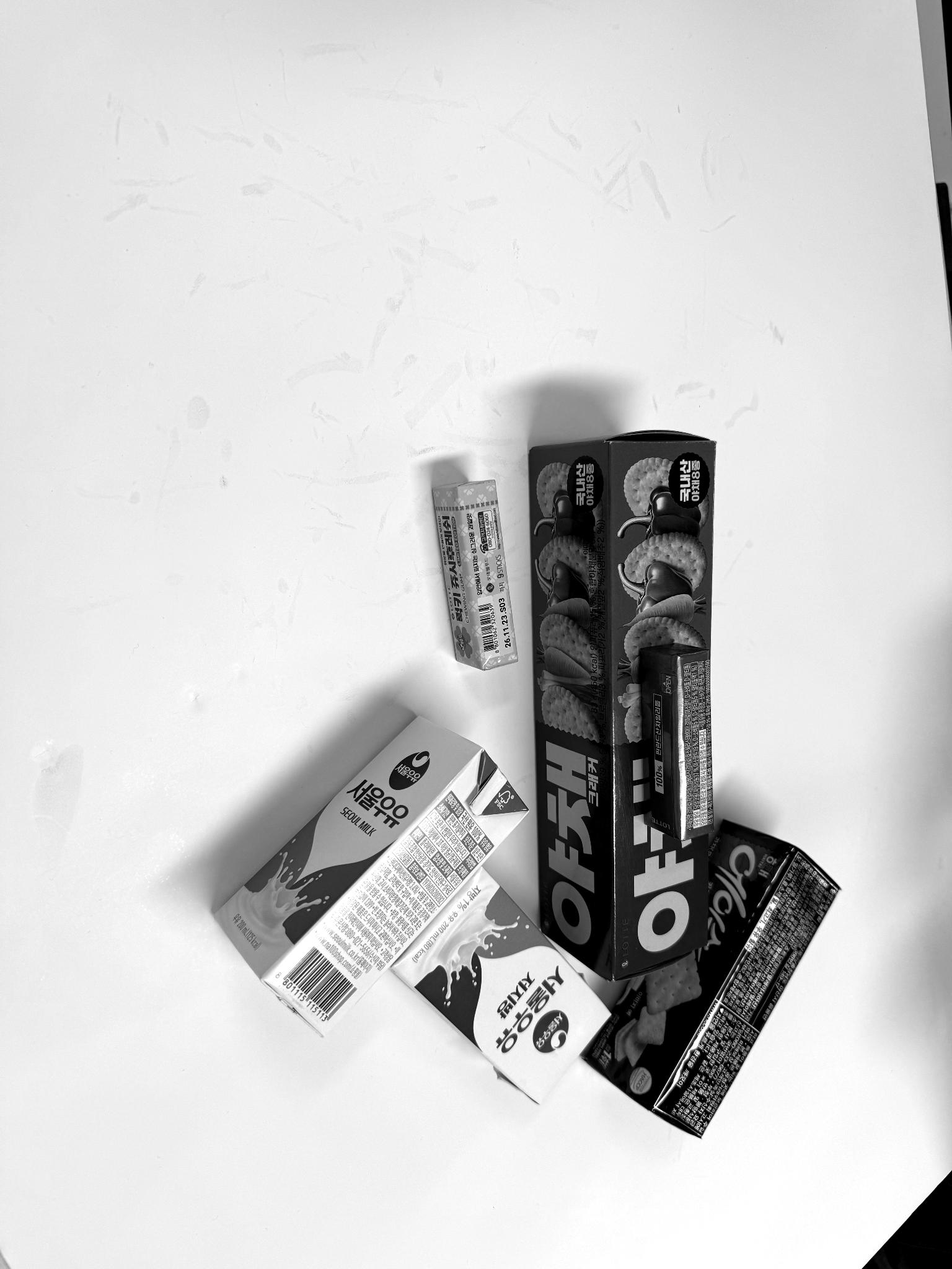cracker_ace: (587, 821, 838, 1136)
cracker_vege: (530, 429, 715, 983)
gum_green: (642, 643, 713, 838)
gum_yellow: (433, 480, 518, 669)
milk_blue: (394, 869, 608, 1102)
milk_green: (218, 717, 527, 1035)
